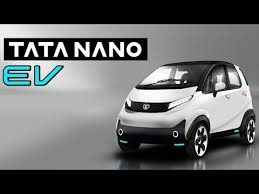Nano: (117, 61, 256, 162)
